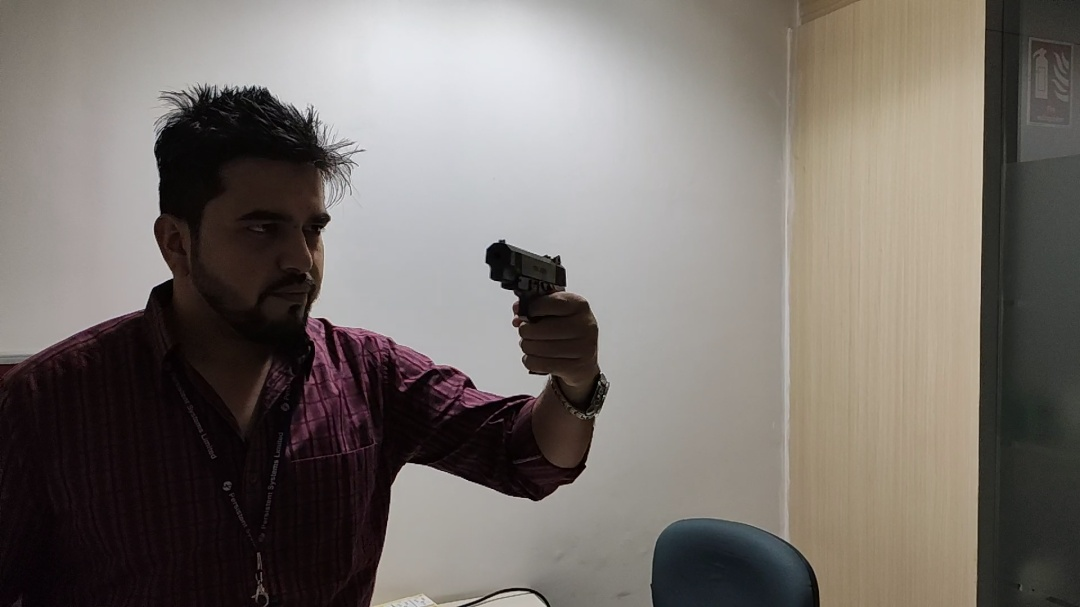gun: (482, 235, 573, 380)
